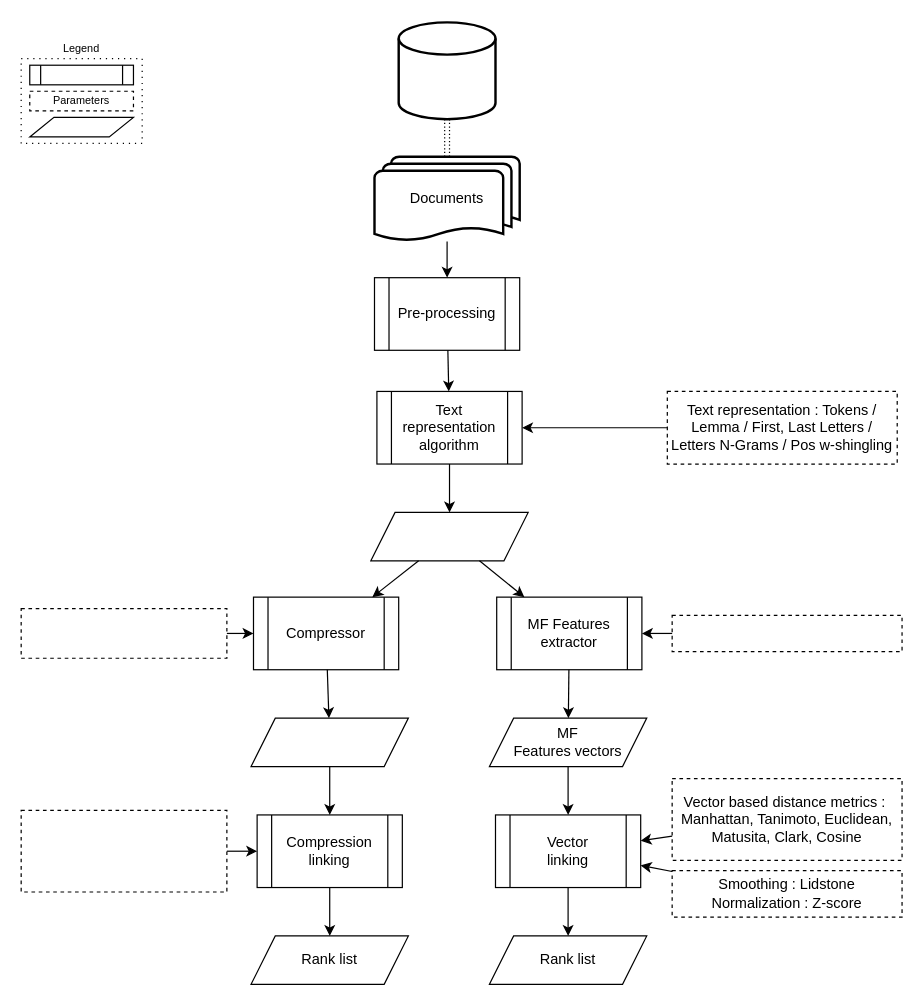
This 923x1006 diagram has some shape labels left out. The shapes that lost their labels are listed below. From the top down, each one's centre as x and y in pixels, then its label:
At [81,74]: "Process".
At [446,70]: "Corpus".
At [81,126]: "Input / Output".
At [449,536]: "Text representation".
At [123,632]: "Lossless compression algorithm : GZip, BZip2, LZMA".
At [786,633]: "Number of most frequent".
At [329,742]: "Compression sizes".
At [123,850]: "Compression based distance metrics: NCD / CCC / CBC".
